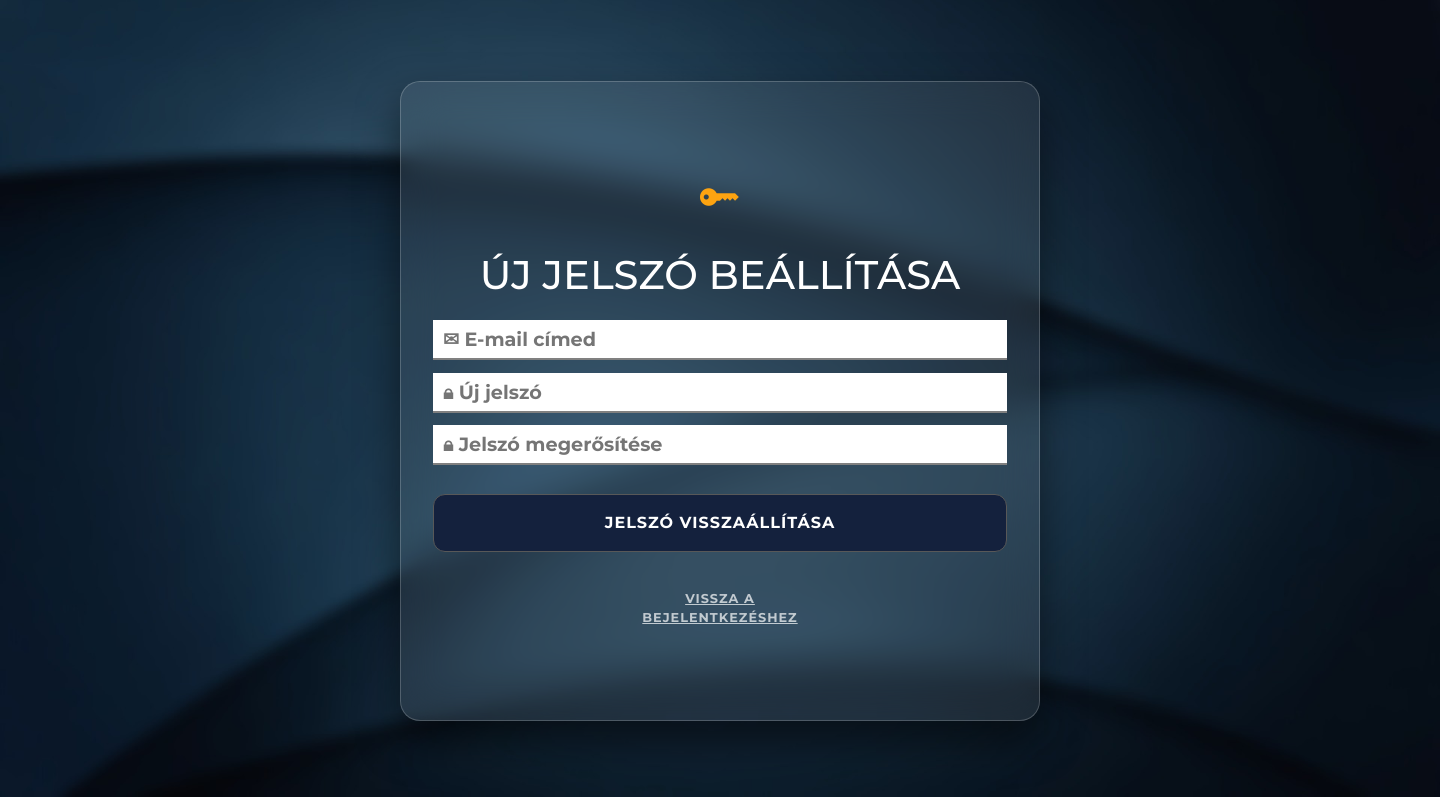
Test: StudentResetComp – Jelszó visszaállítás › erős jelszónál Erős felirat jelenik meg
(page scrolled)
Type "Eros123!" into the password field with placeholder "🔒︎ Új jelszó" at coordinates (720, 393), box [433,373,1007,413]
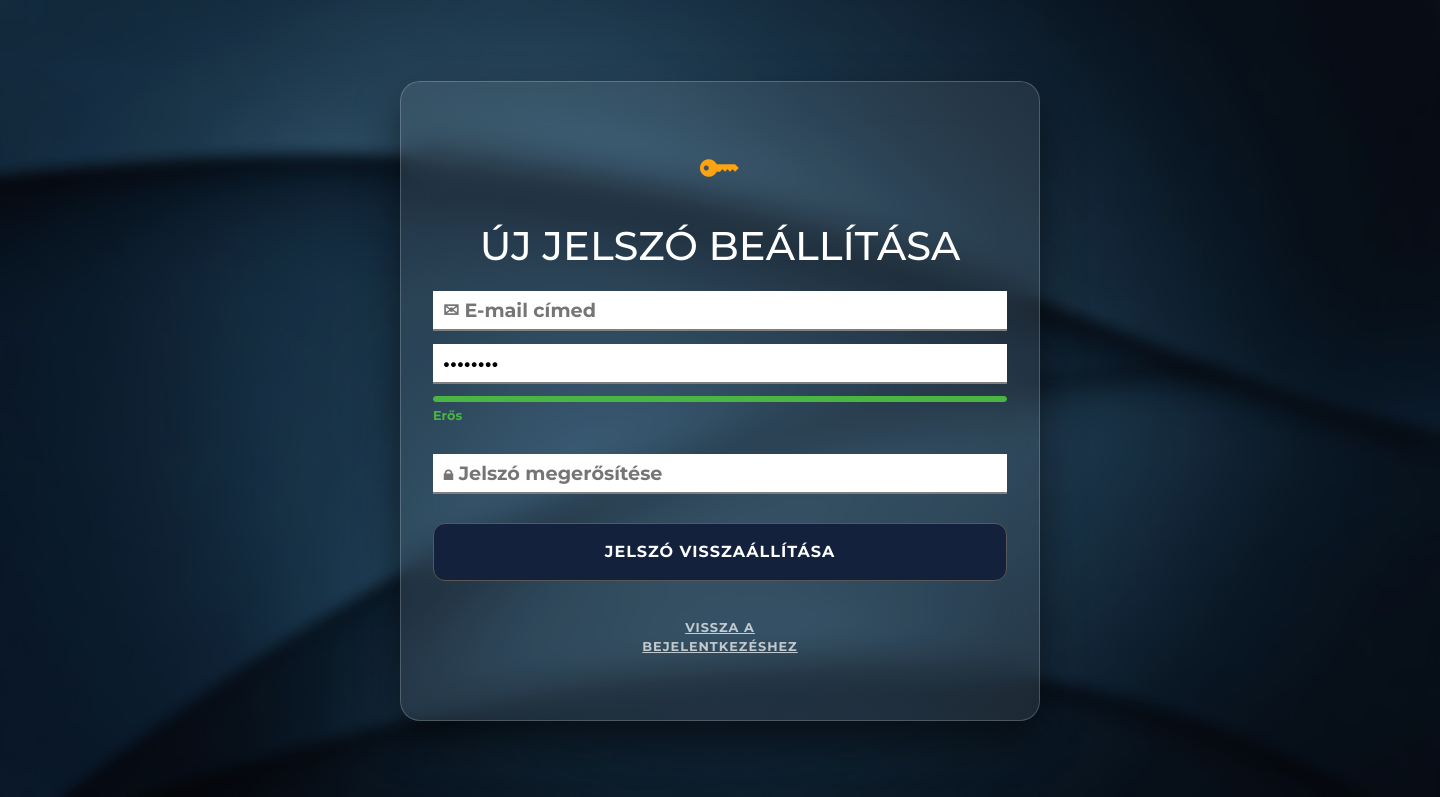
Expected: the text "Erős" is shown, [433,408,462,423]
